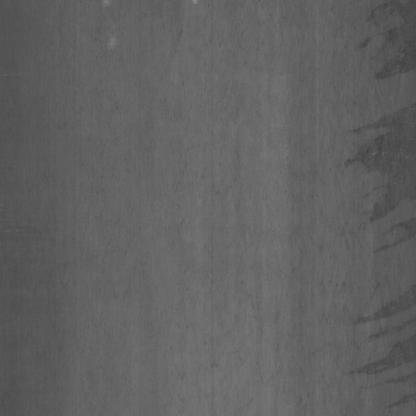water_spot: (340, 24, 412, 386)
